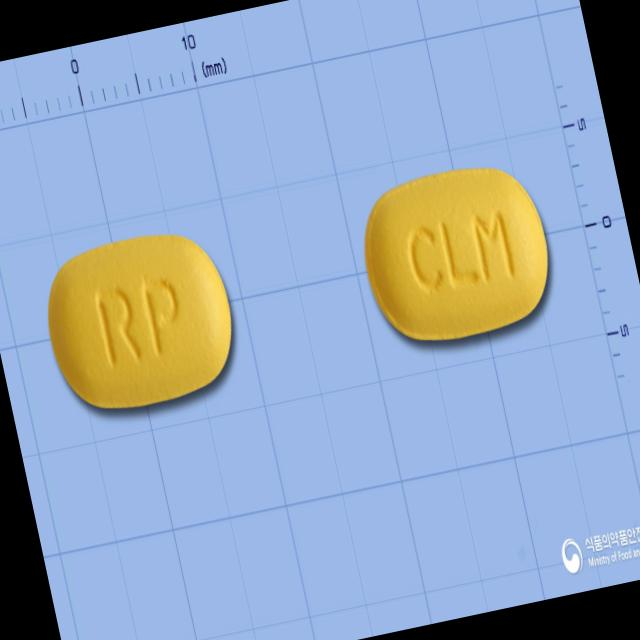Rpclari Tab: (348, 151, 563, 354), (34, 218, 246, 420)
